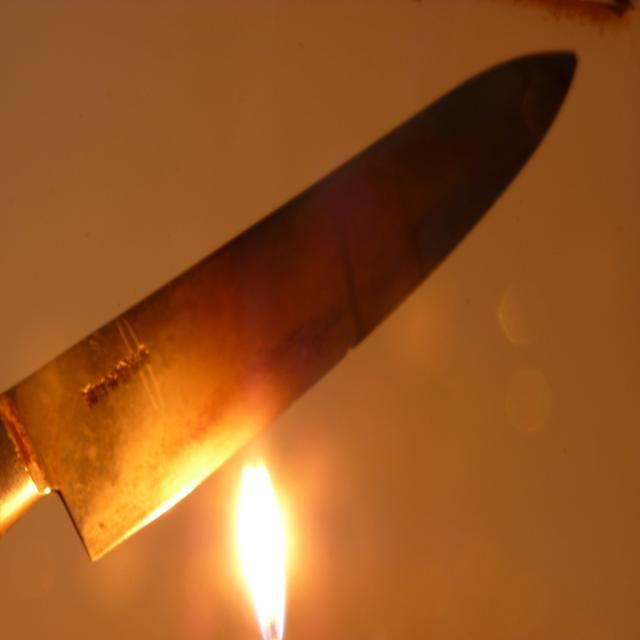Knife: (0, 54, 576, 559)
